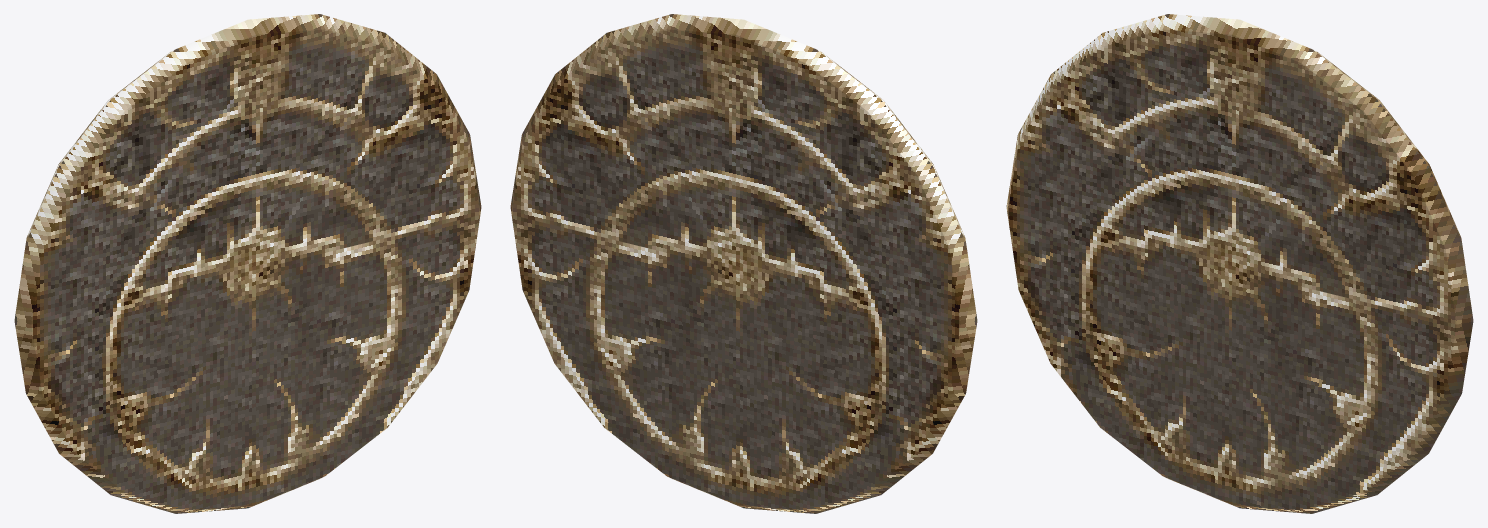
File: ps2_save-icons_prince-of-persiasot-00-0332.glb
The picture shows the model from 3 angles, left to right: view 1: azimuth 30°, elevation 25°; view 2: azimuth 150°, elevation 25°; view 3: azimuth 330°, elevation 25°; orthographic projection.
Visible parts, largest first — view 1: Prince Of PersiaSOT 00 (03:32); view 2: Prince Of PersiaSOT 00 (03:32); view 3: Prince Of PersiaSOT 00 (03:32).
Boxes of the visible parts, <box> form: Prince Of PersiaSOT 00 (03:32): <box>14,14,481,513</box>; Prince Of PersiaSOT 00 (03:32): <box>510,14,977,513</box>; Prince Of PersiaSOT 00 (03:32): <box>1006,14,1473,513</box>.
Bounding box in the file's own units: 4.27 × 4.27 × 0.25.
Materials: 1 (1 with a texture image).
